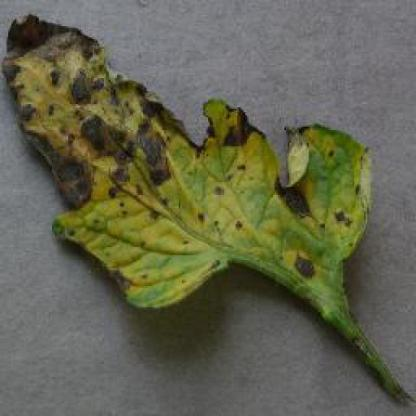Tomato_Blight: (5, 15, 372, 318)
